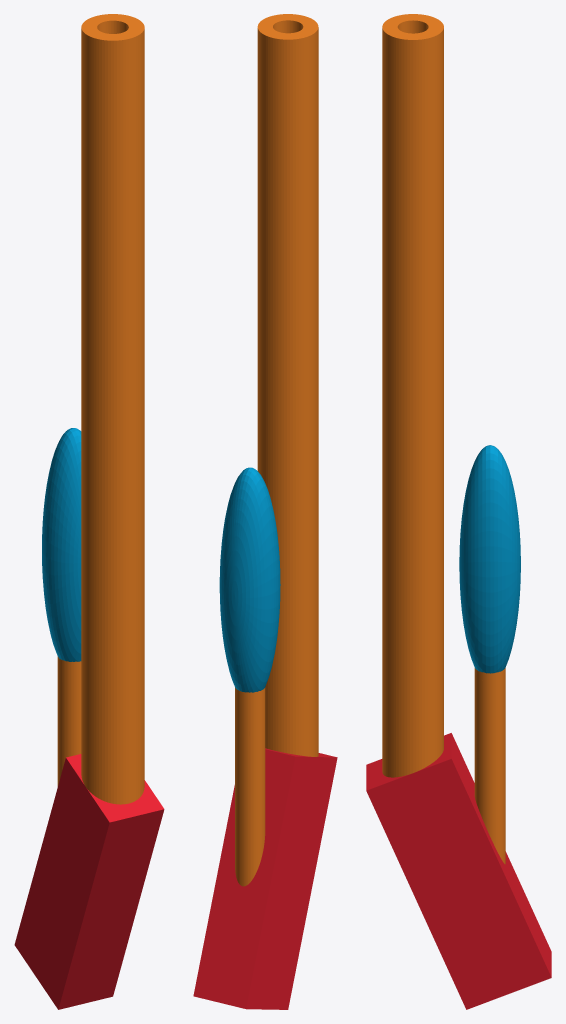
File: Shotgun.obj
3 renders of one model, left to right at view 1: azimuth 30°, elevation 25°; view 2: azimuth 150°, elevation 25°; view 3: azimuth 270°, elevation 25°, orthographic. The views are drawn at different scales.
Visible parts, largest first — view 1: group_0_16089887, group_0_15277357, group_0_40919; view 2: group_0_16089887, group_0_15277357, group_0_40919; view 3: group_0_16089887, group_0_15277357, group_0_40919.
Boxes of the visible parts, bbox=[...] form: group_0_16089887: bbox=[57, 14, 144, 804]; group_0_15277357: bbox=[14, 754, 164, 1009]; group_0_40919: bbox=[42, 428, 81, 661]; group_0_16089887: bbox=[235, 14, 318, 886]; group_0_15277357: bbox=[193, 748, 337, 1009]; group_0_40919: bbox=[219, 467, 280, 692]; group_0_16089887: bbox=[382, 14, 505, 864]; group_0_15277357: bbox=[366, 733, 551, 1009]; group_0_40919: bbox=[459, 445, 520, 673].
Bounding box in the file's own units: 4 × 69.5 × 12.05.
